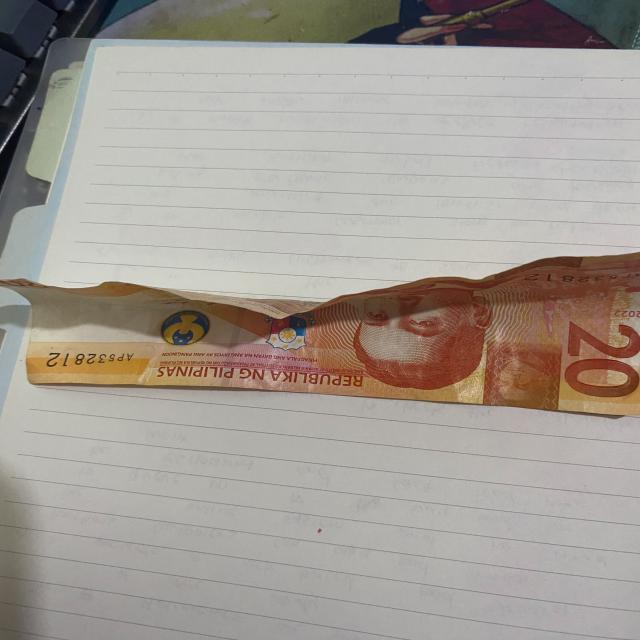serial_number: (34, 343, 145, 374)
value: (556, 311, 639, 405), (486, 340, 561, 410)
